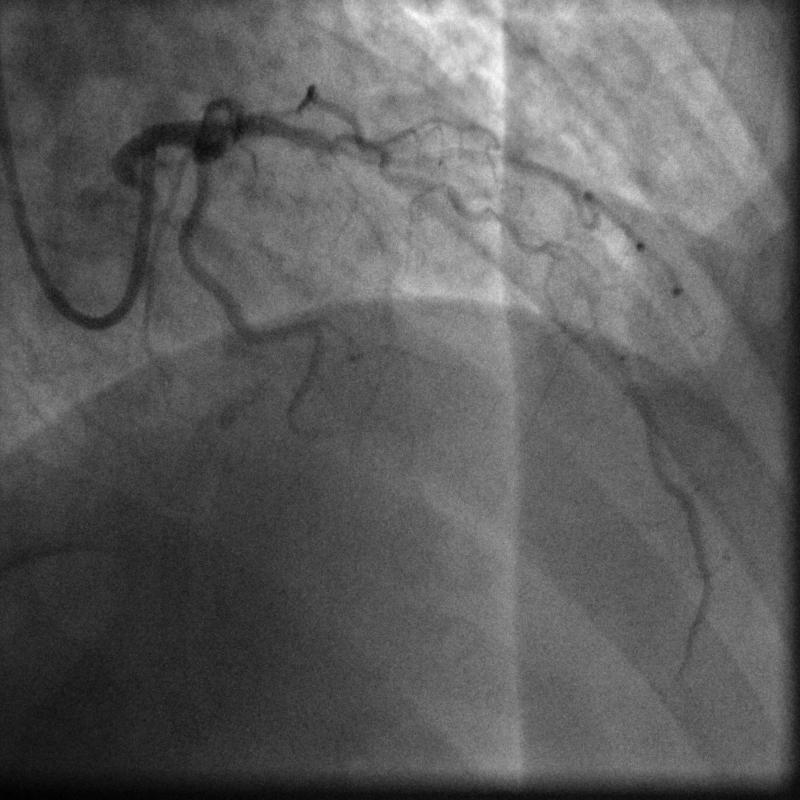Stenosis: (333, 133, 433, 166)
